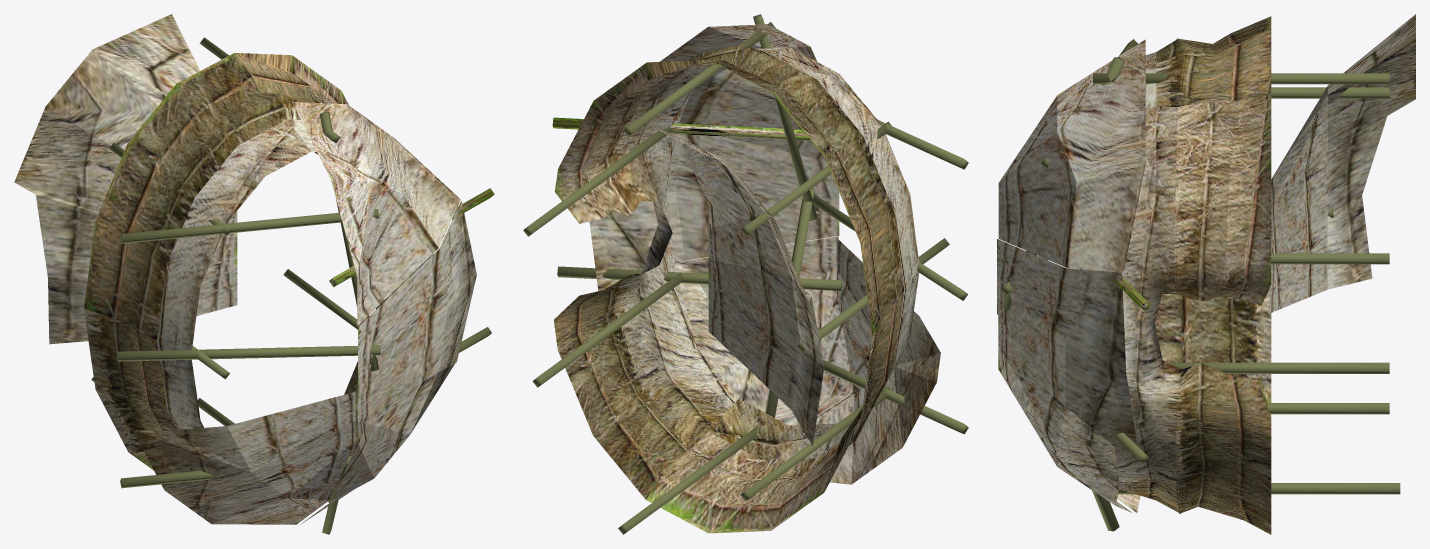
The model's file is hut_000042.obj.
3 renders of one model, left to right at view 1: azimuth 30°, elevation 25°; view 2: azimuth 150°, elevation 25°; view 3: azimuth 270°, elevation 25°, orthographic. The views are drawn at different scales.
Parts seen in each view (by area): view 1: Sphere.003, Sphere.008, Sphere.004, Sphere.006, Sphere.002, Sphere.005, Sphere.001, Sphere.007, Sphere, Cylinder.008_Cylinder.010, Cylinder.013_Cylinder.014, Cylinder.012_Cylinder.013 (+3 smaller); view 2: Sphere.003, Sphere.001, Sphere.002, Sphere.005, Sphere.008, Sphere.007, Sphere.006, Sphere.004, Sphere, Cylinder.010_Cylinder.011, Cylinder.003, Cylinder.011_Cylinder.012 (+11 smaller); view 3: Sphere.001, Sphere.006, Sphere.003, Sphere.002, Sphere.005, Sphere.007, Sphere.004, Sphere, Cylinder.006, Cylinder.001, Cylinder, Cylinder.003 (+3 smaller).
Part boxes in pixels (bbox=[...]): Sphere.003: bbox=[136, 94, 432, 467]; Sphere.008: bbox=[133, 392, 355, 524]; Sphere.004: bbox=[14, 14, 237, 238]; Sphere.006: bbox=[292, 102, 460, 325]; Sphere.002: bbox=[84, 53, 376, 470]; Sphere.005: bbox=[358, 200, 476, 393]; Sphere.001: bbox=[116, 77, 357, 442]; Sphere.007: bbox=[36, 195, 237, 344]; Sphere: bbox=[300, 363, 454, 524]; Cylinder.008_Cylinder.010: bbox=[117, 345, 380, 361]; Cylinder.013_Cylinder.014: bbox=[120, 209, 378, 243]; Cylinder.012_Cylinder.013: bbox=[120, 456, 379, 488]; Sphere.003: bbox=[615, 45, 919, 480]; Sphere.001: bbox=[583, 44, 896, 507]; Sphere.002: bbox=[554, 59, 880, 533]; Sphere.005: bbox=[589, 134, 839, 290]; Sphere.008: bbox=[795, 238, 940, 484]; Sphere.007: bbox=[708, 259, 824, 446]; Sphere.006: bbox=[660, 24, 826, 160]; Sphere.004: bbox=[642, 121, 811, 301]; Sphere: bbox=[675, 236, 838, 425]; Cylinder.010_Cylinder.011: bbox=[552, 117, 810, 140]; Cylinder.003: bbox=[532, 273, 683, 387]; Cylinder.011_Cylinder.012: bbox=[557, 266, 842, 290]; Sphere.001: bbox=[1174, 33, 1243, 520]; Sphere.006: bbox=[998, 39, 1145, 272]; Sphere.003: bbox=[1086, 38, 1186, 513]; Sphere.002: bbox=[1220, 16, 1271, 534]; Sphere.005: bbox=[997, 239, 1137, 450]; Sphere.007: bbox=[1269, 116, 1387, 313]; Sphere.004: bbox=[1271, 14, 1415, 234]; Sphere: bbox=[998, 316, 1131, 512]; Cylinder.006: bbox=[1168, 362, 1389, 373]; Cylinder.001: bbox=[1093, 73, 1389, 84]; Cylinder: bbox=[1118, 483, 1400, 494]; Cylinder.003: bbox=[1267, 403, 1389, 414].
Bounding box in the file's own units: 4.43 × 4.88 × 3.76.
